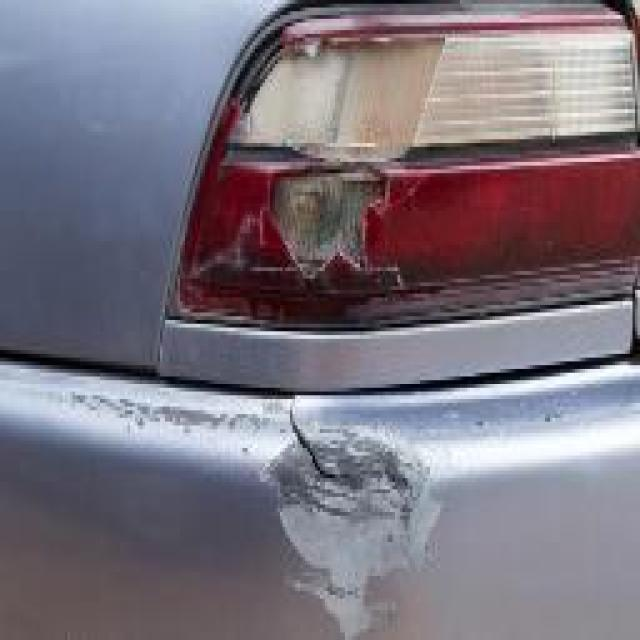Bumper: (45, 365, 640, 640)
Light: (218, 23, 640, 309)
